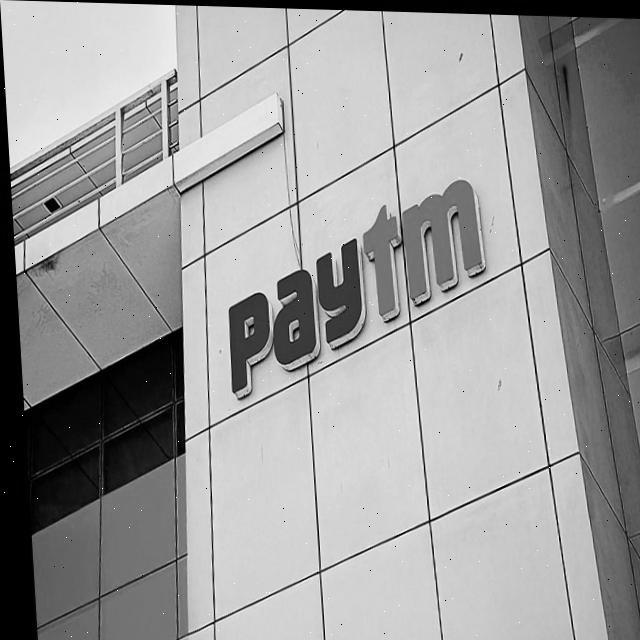fully_visible: (202, 167, 491, 401)
